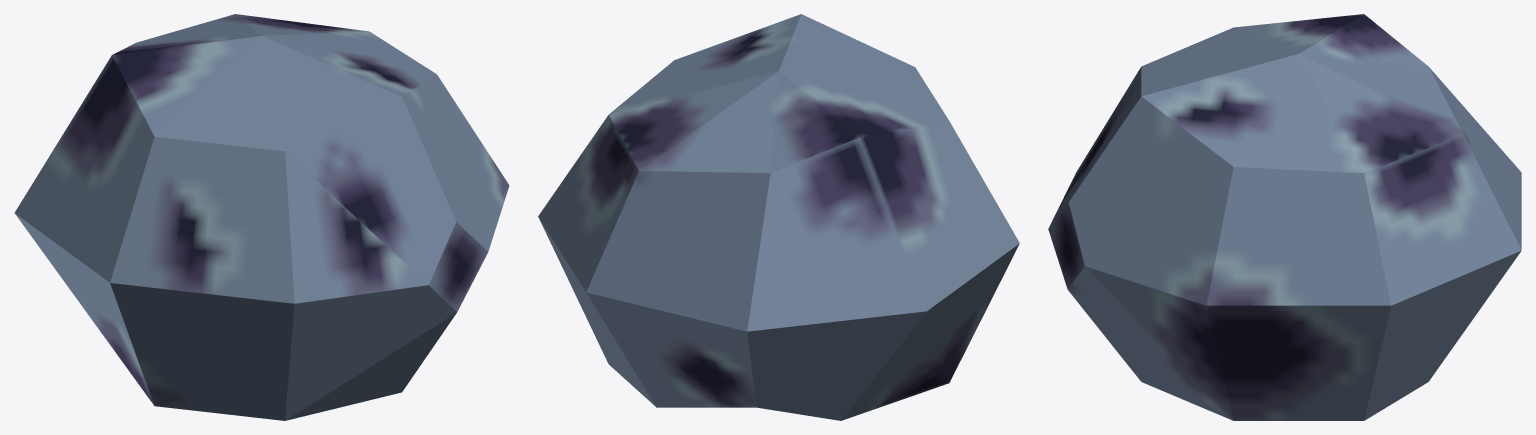
File: asteroid.fbx
The picture shows the model from 3 angles, left to right: view 1: azimuth 30°, elevation 25°; view 2: azimuth 150°, elevation 25°; view 3: azimuth 270°, elevation 25°; orthographic projection. The views are drawn at different scales.
Visible parts, largest first — view 1: sphere; view 2: sphere; view 3: sphere.
Part boxes in pixels (x1,y1,x2,y2): sphere: [14, 14, 509, 420]; sphere: [538, 14, 1019, 420]; sphere: [1048, 14, 1521, 420].
Bounding box in the file's own units: 100 × 81.25 × 106.
Materials: 1 (1 with a texture image).
